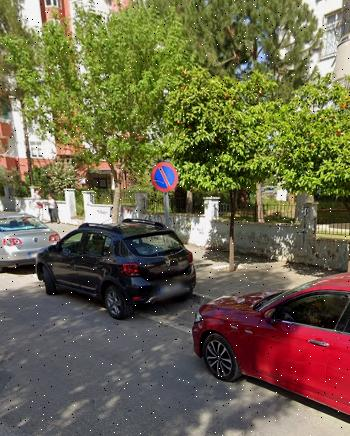nopark: (150, 161, 181, 194)
